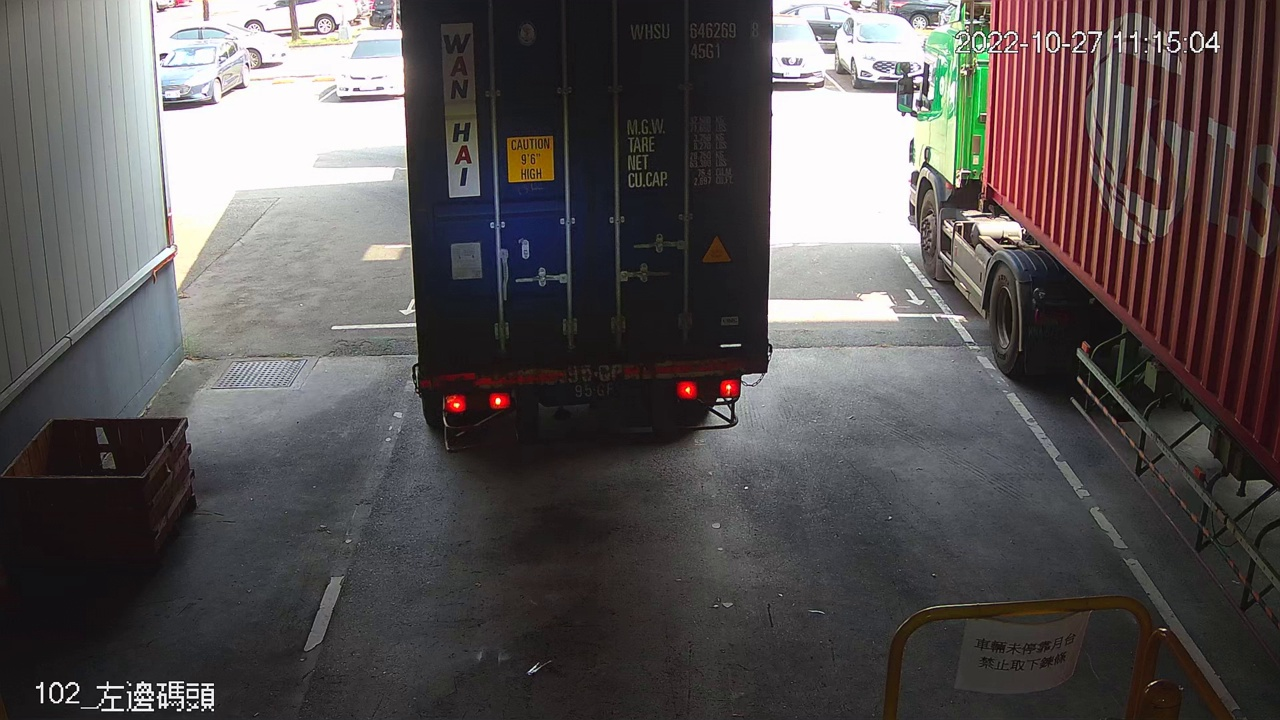container: (625, 13, 764, 63)
